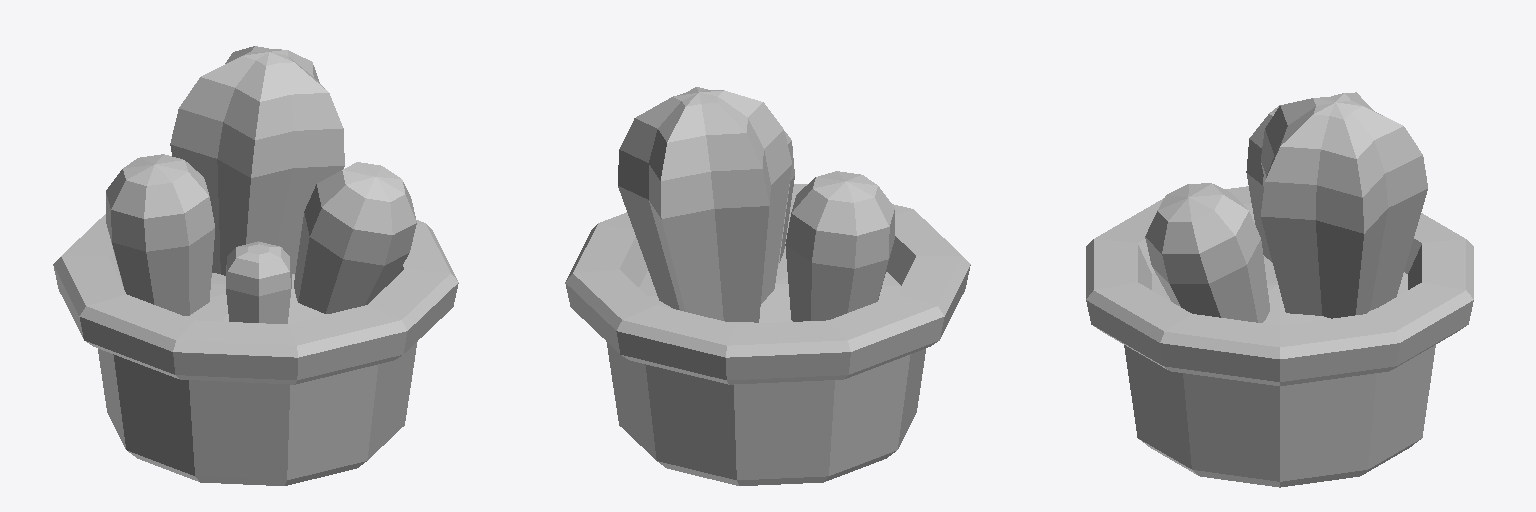
Rendered from cactus_medium_B.obj.
3 views of the same model, side by side, from view 1: azimuth 30°, elevation 25°; view 2: azimuth 150°, elevation 25°; view 3: azimuth 270°, elevation 25° (orthographic).
Visible parts, largest first — view 1: cactus_medium_B_Cylinder.001; view 2: cactus_medium_B_Cylinder.001; view 3: cactus_medium_B_Cylinder.001.
Part boxes in pixels (bbox=[...]): cactus_medium_B_Cylinder.001: bbox=[53, 46, 458, 485]; cactus_medium_B_Cylinder.001: bbox=[565, 87, 970, 485]; cactus_medium_B_Cylinder.001: bbox=[1086, 92, 1473, 487].
Size of the model in its own units: 0.8799 by 0.8272 by 0.8368.